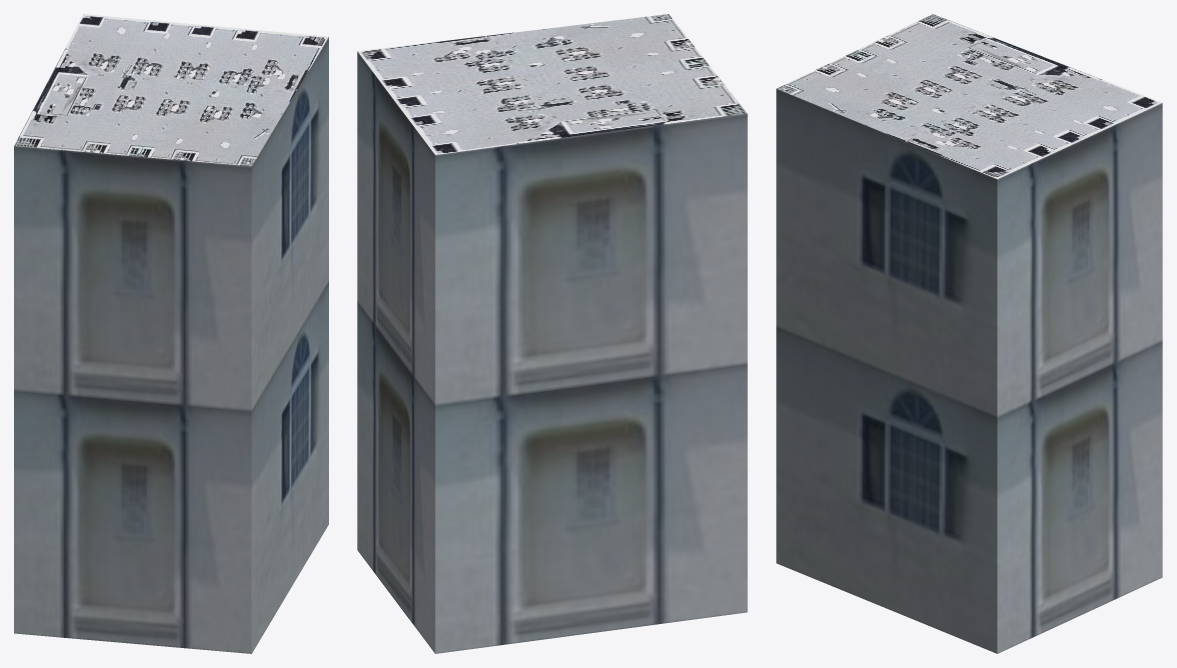
The model's file is ResTex__449.fbx.
3 renders of one model, left to right at view 1: azimuth 30°, elevation 25°; view 2: azimuth 150°, elevation 25°; view 3: azimuth 270°, elevation 25°, orthographic. The views are drawn at different scales.
Visible parts, largest first — view 1: CityEngineMaterial_17_m, CityEngineMaterial_4_m; view 2: CityEngineMaterial_17_m, CityEngineMaterial_4_m; view 3: CityEngineMaterial_17_m, CityEngineMaterial_4_m.
Part boxes in pixels (x1,y1,x2,y2): CityEngineMaterial_17_m: [14, 37, 328, 653]; CityEngineMaterial_4_m: [14, 14, 328, 166]; CityEngineMaterial_17_m: [357, 51, 747, 653]; CityEngineMaterial_4_m: [357, 14, 747, 154]; CityEngineMaterial_17_m: [776, 89, 1162, 653]; CityEngineMaterial_4_m: [777, 14, 1161, 179].
Size of the model in its own units: 4.48 by 6 by 4.42.
2 materials, 2 textured.
